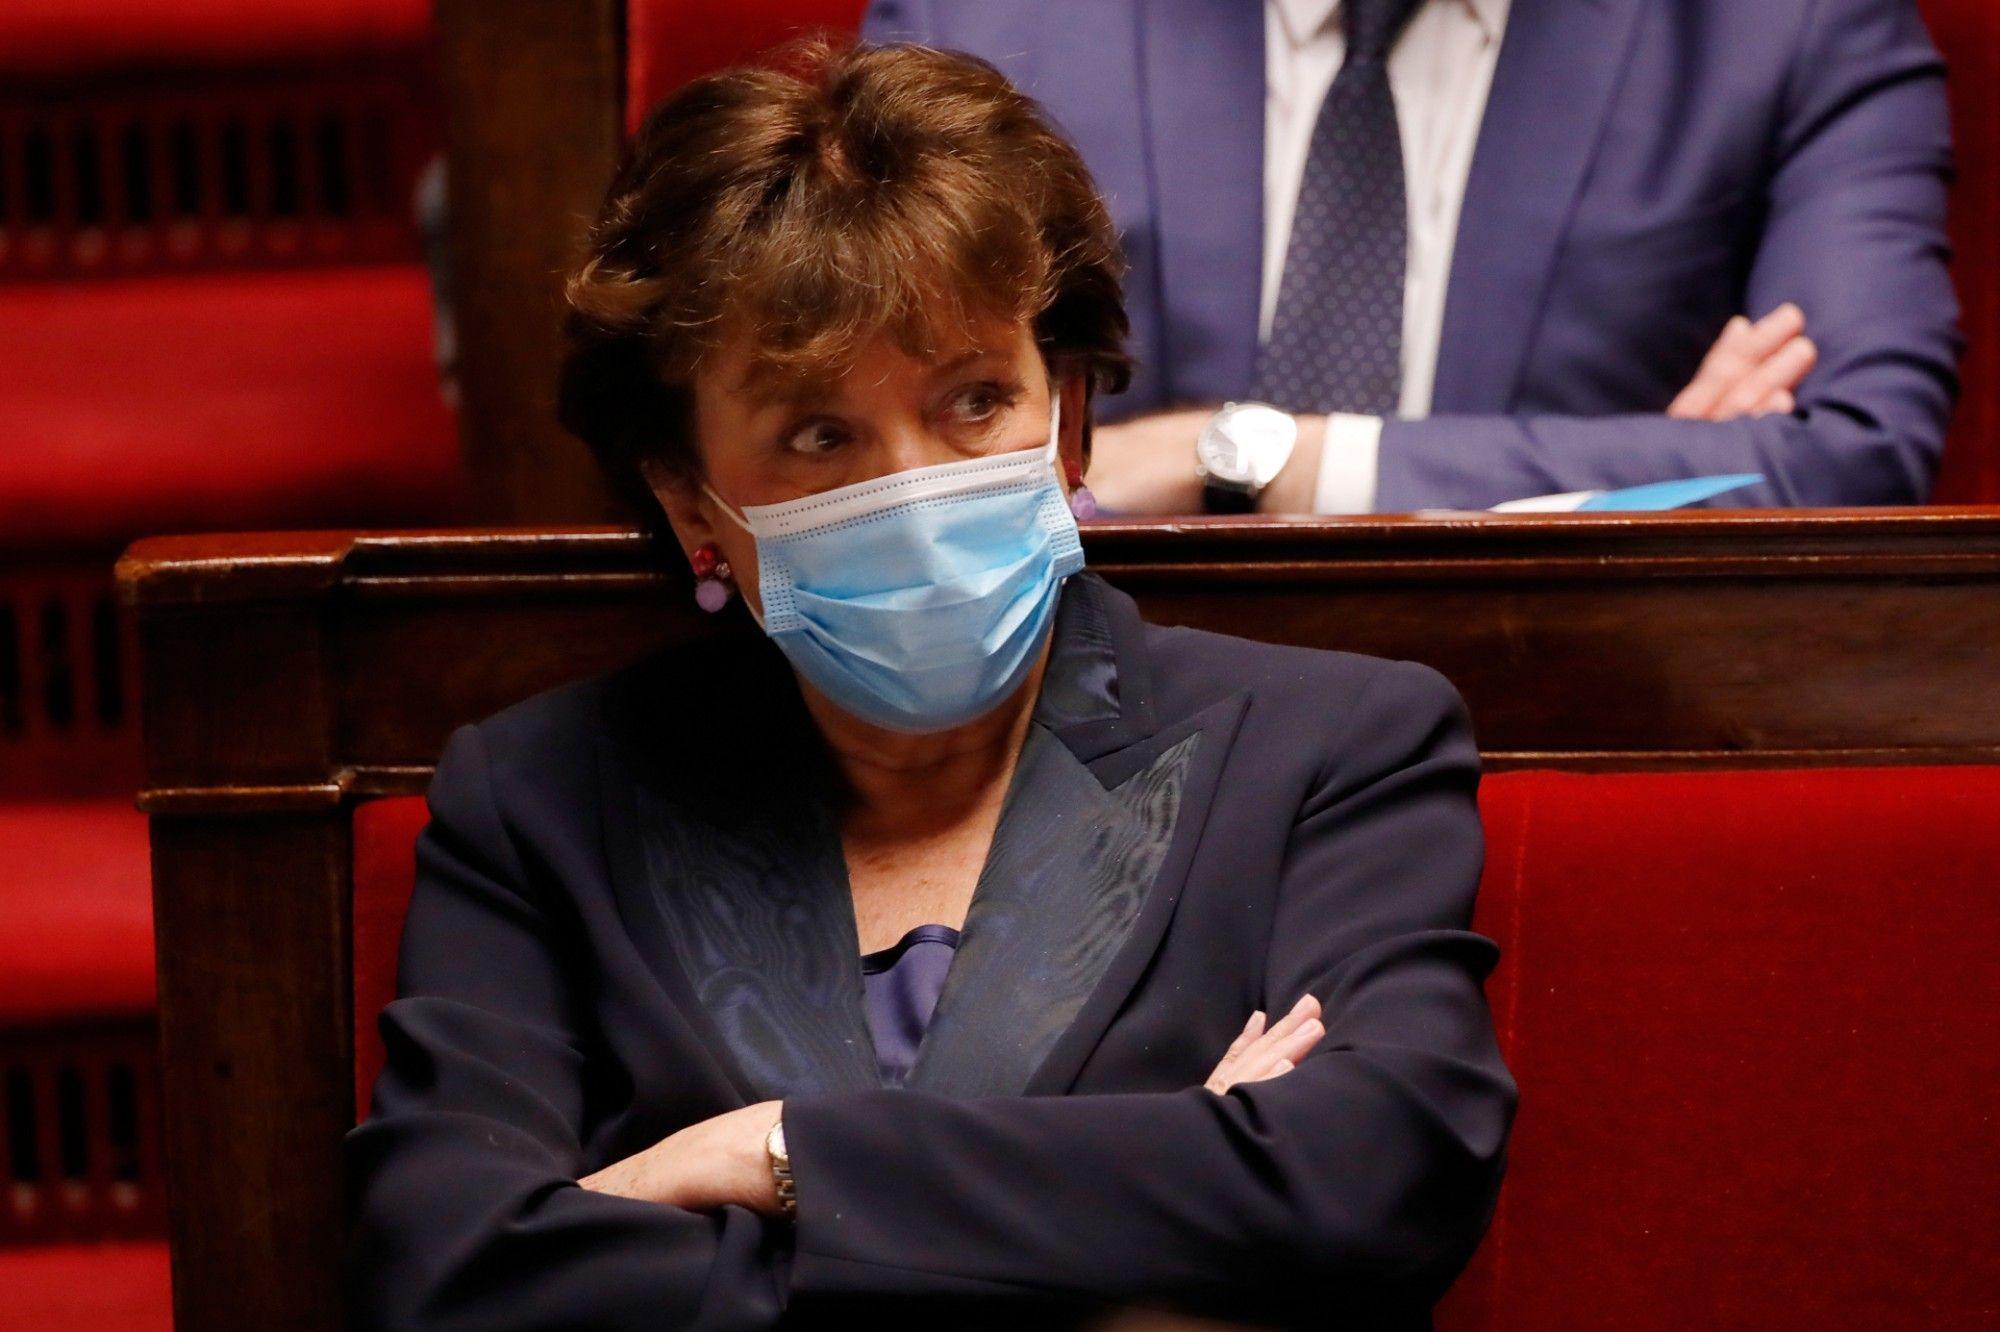with_mask: (748, 350, 1069, 648)
